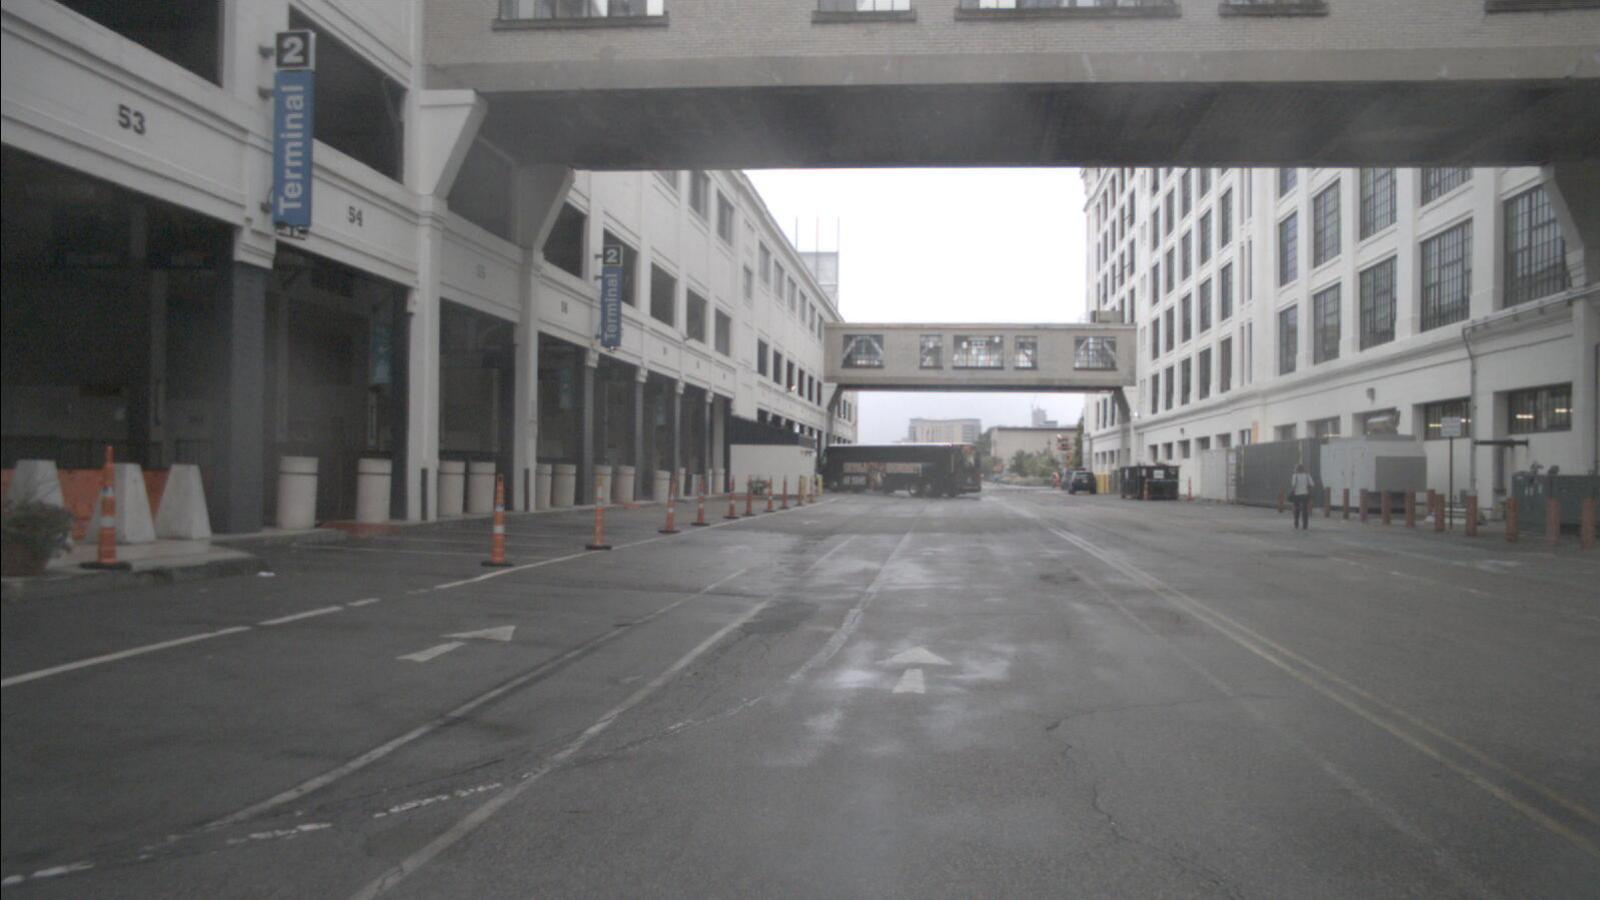human.pedestrian.adult-pedestrian.moving: (1286, 463, 1315, 532)
